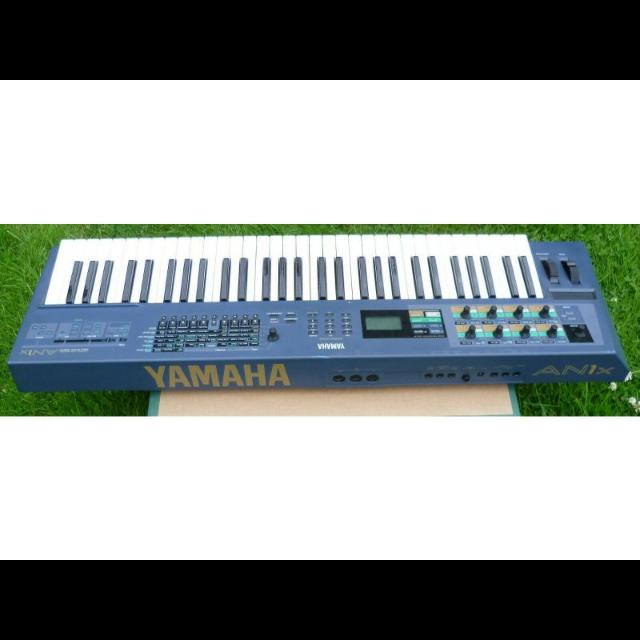Electronic-Keyboard: (13, 230, 633, 390)
